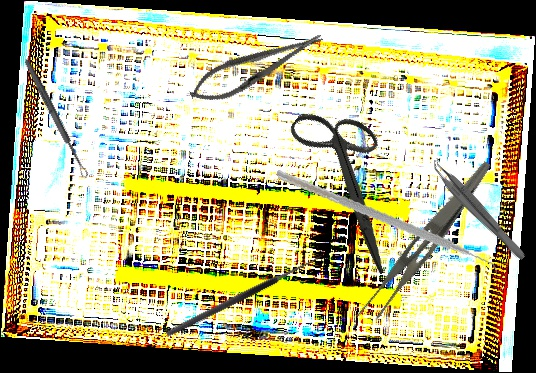Chopper: (276, 139, 500, 317)
Dressing Forceps: (353, 148, 493, 332)
Hook Surgical: (161, 244, 325, 339)
Iris Scissors: (252, 90, 447, 275)
Needle Holder: (183, 21, 330, 113)
Surgical Spoon: (22, 57, 90, 180)
Tissue Forceps: (425, 155, 533, 263)
